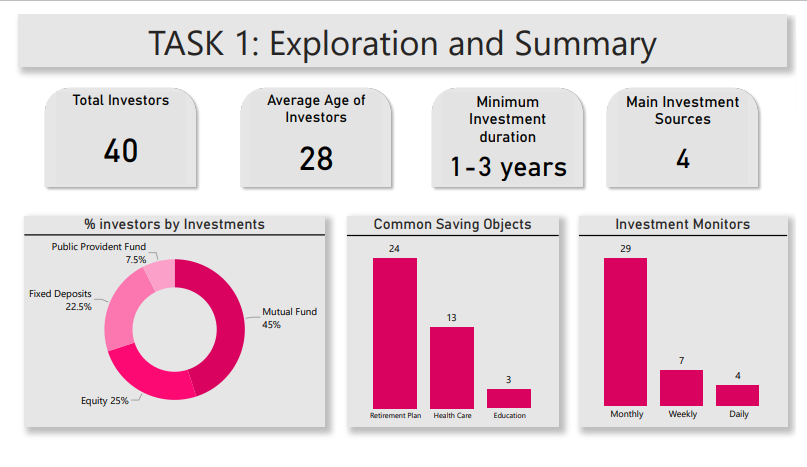

The dashboard page shown, as its layout file describes it:
{"tool":"powerbi","page":{"name":"Page 1","canvas":[1280,720],"ordinal":0},"visuals":[{"type":"textbox","box":[9.6,0,1255.6,85.1],"z":0},{"type":"group","id":"g1","title":"Group 1","box":[45.3,111.1,263.5,178.4],"z":1000},{"type":"shape","box":[45.3,111.1,263.5,178.4],"z":1000,"group":"g1"},{"type":"shape","box":[363.6,111.1,263.5,178.4],"z":1000,"group":"g2"},{"type":"shape","box":[676.5,111.1,263.5,178.4],"z":1000,"group":"g3"},{"type":"shape","box":[963.3,111.1,263.5,178.4],"z":1000,"group":"g4"},{"type":"card","title":"Total  Investors","fields":{"Values":["CountNonNull(Data_set 2.age)"]},"box":[71.2,125.9,211.6,149.9],"z":2000,"group":"g1"},{"type":"card","title":"Average Age of Investors","fields":{"Values":["Avg(Data_set 2.age)"]},"box":[389.5,125.9,211.6,149.9],"z":2000,"group":"g2"},{"type":"card","title":"Minimum Investment duration","fields":{"Values":["Min(Data_set 2.Duration)"]},"box":[702.4,125.9,211.6,149.9],"z":2000,"group":"g3"},{"type":"card","title":"Main Investment Sources","fields":{"Values":["Count(Data_set 2.Source)"]},"box":[989.2,125.9,211.6,149.9],"z":2000,"group":"g4"},{"type":"donutChart","title":"% investors by Investments","fields":{"Category":["Data_set 2.Avenue"],"Y":["CountNonNull(Data_set 2.age)"]},"box":[19.2,328,491.3,344.4],"z":2000},{"type":"columnChart","title":"Common Saving Objects","fields":{"Category":["Data_set 2.What are your savings objectives?"],"Y":["CountNonNull(Data_set 2.age)"]},"box":[546.1,328,345.8,344.4],"z":3000},{"type":"shape","box":[546.1,340.3,345.8,39.8],"z":4000},{"type":"shape","box":[19.2,338.9,491.3,39.8],"z":5000},{"type":"clusteredColumnChart","title":"Investment Monitors","fields":{"Category":["Data_set 2.Invest_Monitor"],"Y":["CountNonNull(Data_set 2.age)"]},"box":[924.9,328,340.3,344.4],"z":6000},{"type":"group","id":"g2","title":"Group 1","box":[363.6,111.1,263.5,178.4],"z":7000},{"type":"group","id":"g3","title":"Group 1","box":[676.5,111.1,263.5,178.4],"z":8000},{"type":"shape","box":[924.9,340.3,340.3,39.8],"z":9000},{"type":"group","id":"g4","title":"Group 1","box":[963.3,111.1,263.5,178.4],"z":10000}]}

Visuals, with their boxes in screenshot pixels (x1, y1, x2, y2), scaled from the page's 1280x720 canvas onto the 807x467 screenshot:
textbox: <region>6, 0, 798, 55</region>
"Group 1" group: <region>29, 72, 195, 188</region>
shape: <region>29, 72, 195, 188</region>
shape: <region>229, 72, 395, 188</region>
shape: <region>427, 72, 593, 188</region>
shape: <region>607, 72, 773, 188</region>
"Total  Investors" card: <region>45, 82, 178, 179</region>
"Average Age of Investors" card: <region>246, 82, 379, 179</region>
"Minimum Investment duration" card: <region>443, 82, 576, 179</region>
"Main Investment Sources" card: <region>624, 82, 757, 179</region>
"% investors by Investments" donutChart: <region>12, 213, 322, 436</region>
"Common Saving Objects" columnChart: <region>344, 213, 562, 436</region>
shape: <region>344, 221, 562, 247</region>
shape: <region>12, 220, 322, 246</region>
"Investment Monitors" clusteredColumnChart: <region>583, 213, 798, 436</region>
"Group 1" group: <region>229, 72, 395, 188</region>
"Group 1" group: <region>427, 72, 593, 188</region>
shape: <region>583, 221, 798, 247</region>
"Group 1" group: <region>607, 72, 773, 188</region>
